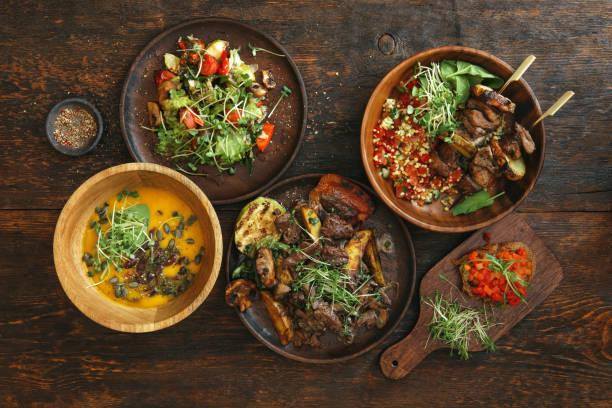Braised Crucian Carp: (222, 173, 411, 363), (120, 17, 303, 202), (360, 46, 542, 232), (52, 163, 219, 333)
